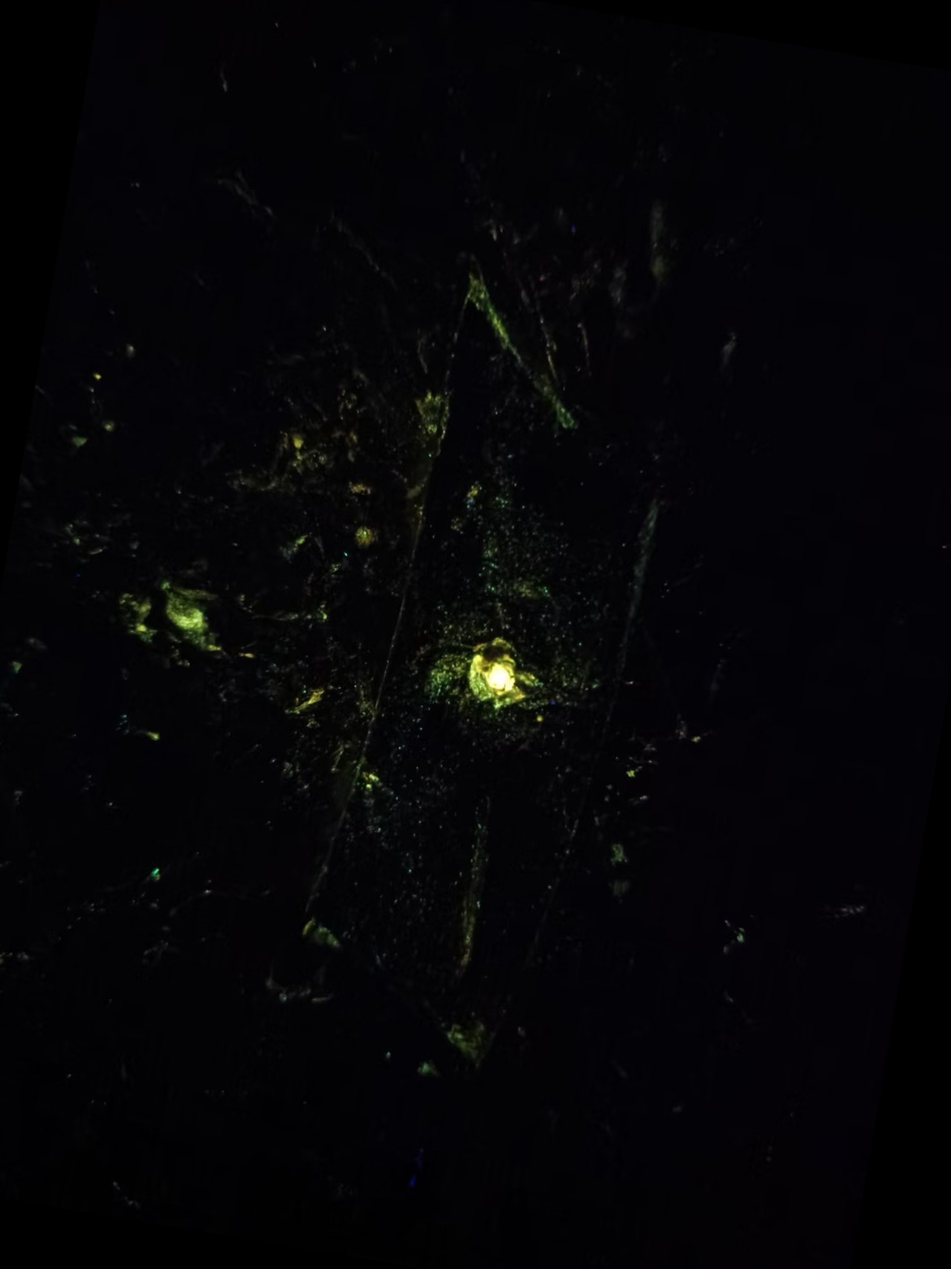Crater: (434, 602, 570, 756)
